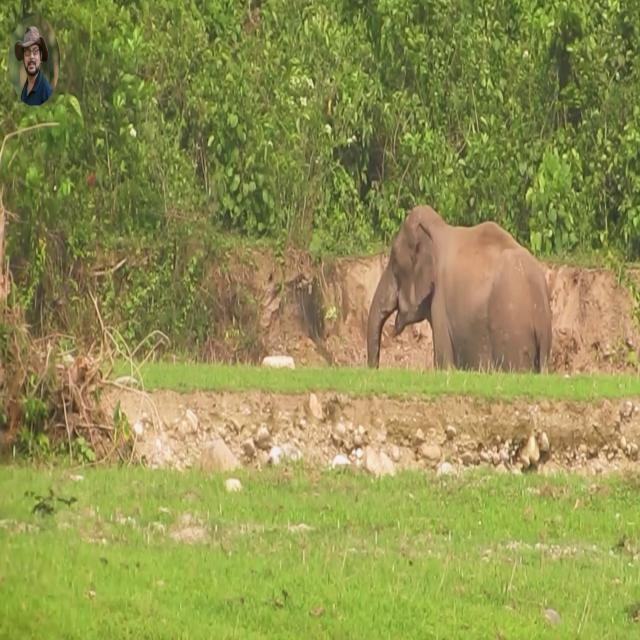Elephant: (366, 203, 553, 375)
